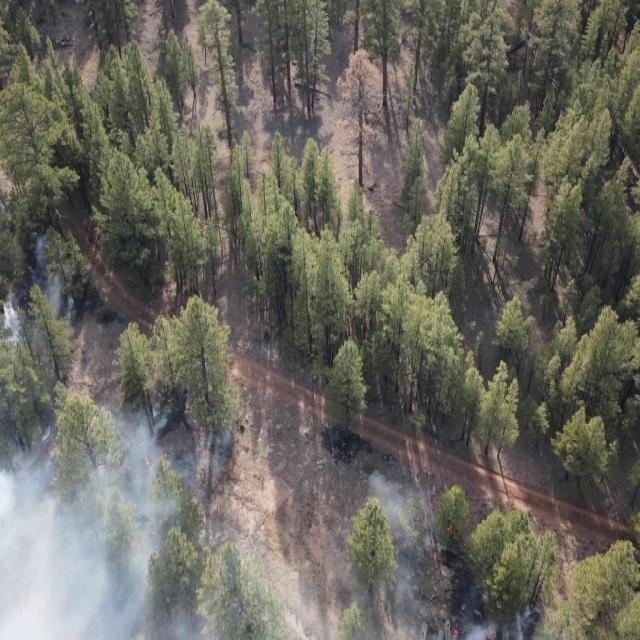fire: (190, 428, 210, 456), (48, 436, 60, 456), (452, 624, 464, 640), (143, 451, 152, 470), (483, 632, 498, 640), (160, 450, 170, 460), (446, 523, 454, 535)
smoke: (0, 410, 230, 640), (356, 471, 444, 640), (0, 227, 77, 349), (460, 605, 538, 640)
